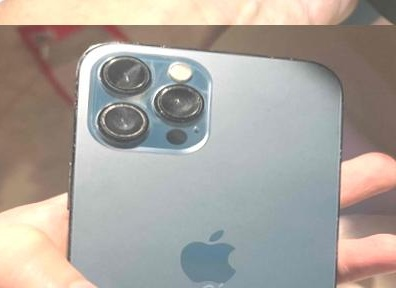scratch: (42, 44, 90, 270), (327, 0, 396, 25)
